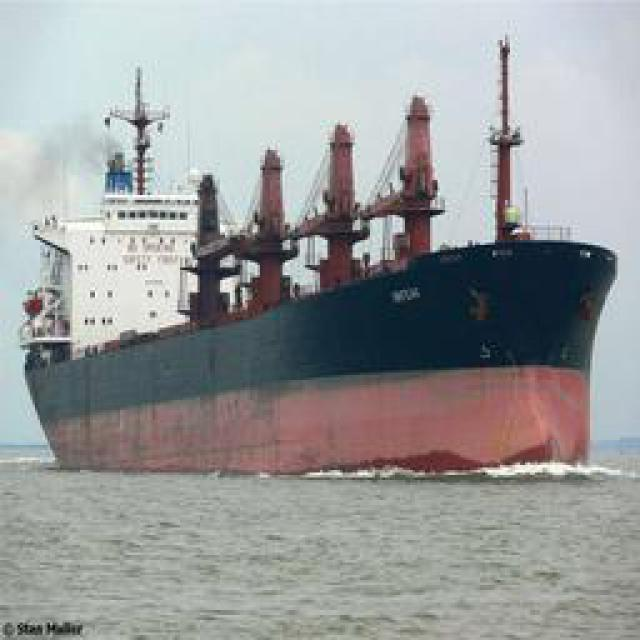Ship: (6, 46, 626, 485)
